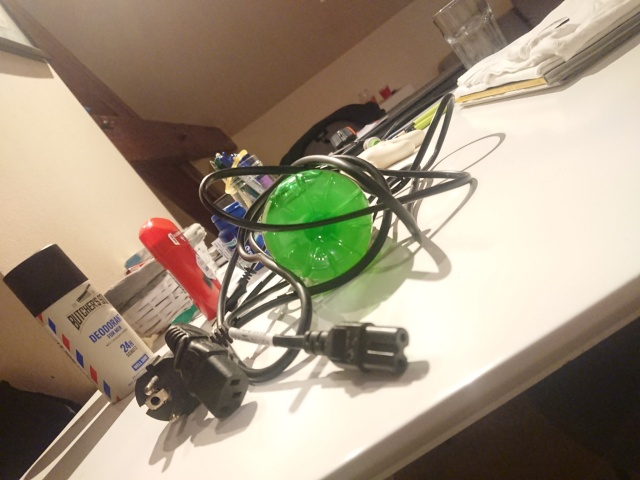Vindi Iso Sport Lemon-Grapefruit 500mL: (258, 167, 376, 285)
